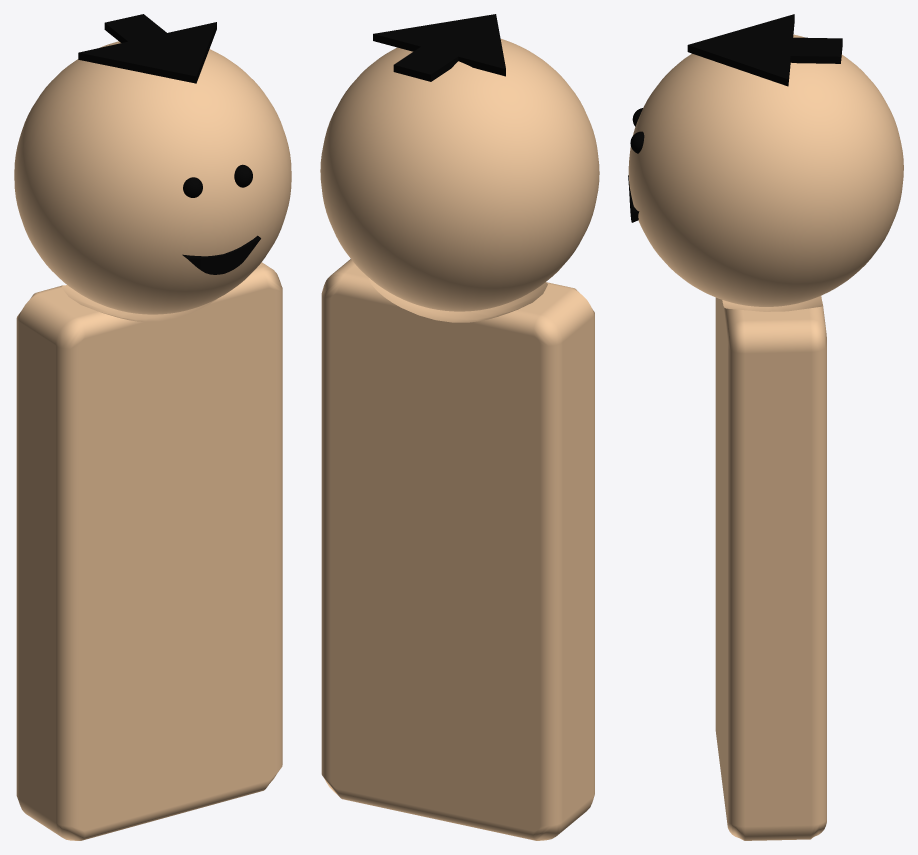
The model's file is bsmile.obj.
3 views of the same model, side by side, from view 1: azimuth 30°, elevation 25°; view 2: azimuth 150°, elevation 25°; view 3: azimuth 270°, elevation 25° (orthographic).
Parts seen in each view (by area): view 1: 1_Curve.002_Curve.006, 5.002_Curve.002_Curve.003_5.002_Curve.002_Curve.002; view 2: 1_Curve.002_Curve.006, 5.002_Curve.002_Curve.003_5.002_Curve.002_Curve.002; view 3: 1_Curve.002_Curve.006, 5.002_Curve.002_Curve.003_5.002_Curve.002_Curve.002.
Part boxes in pixels (x1,y1,x2,y2): 1_Curve.002_Curve.006: (14, 41, 291, 840); 5.002_Curve.002_Curve.003_5.002_Curve.002_Curve.002: (78, 14, 260, 274); 1_Curve.002_Curve.006: (320, 39, 599, 840); 5.002_Curve.002_Curve.003_5.002_Curve.002_Curve.002: (373, 14, 505, 81); 1_Curve.002_Curve.006: (628, 34, 903, 840); 5.002_Curve.002_Curve.003_5.002_Curve.002_Curve.002: (628, 14, 842, 222).
Size of the model in its own units: 0.1661 by 0.4993 by 0.1665.
